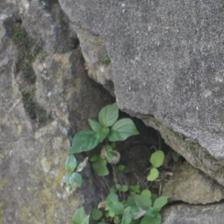Crack: (29, 59, 138, 166), (18, 51, 181, 76)
